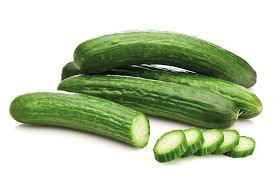Organic: (7, 7, 275, 183)
